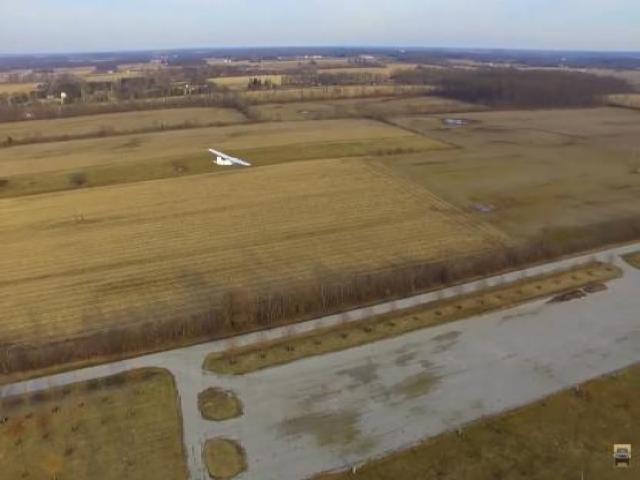uav: (203, 140, 259, 180)
